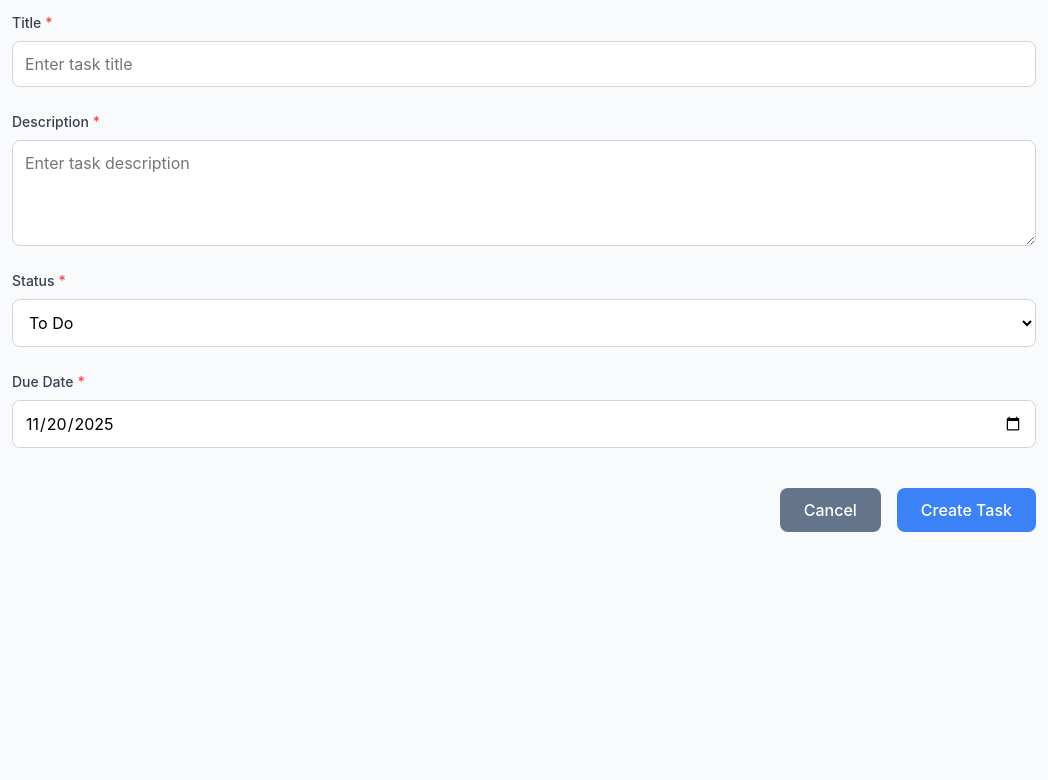
TaskForm Component › Form Validation › should show error when description is too short
Type "Valid Title" into the field labelled "Title*" at (524,64), box [12,41,1036,87]
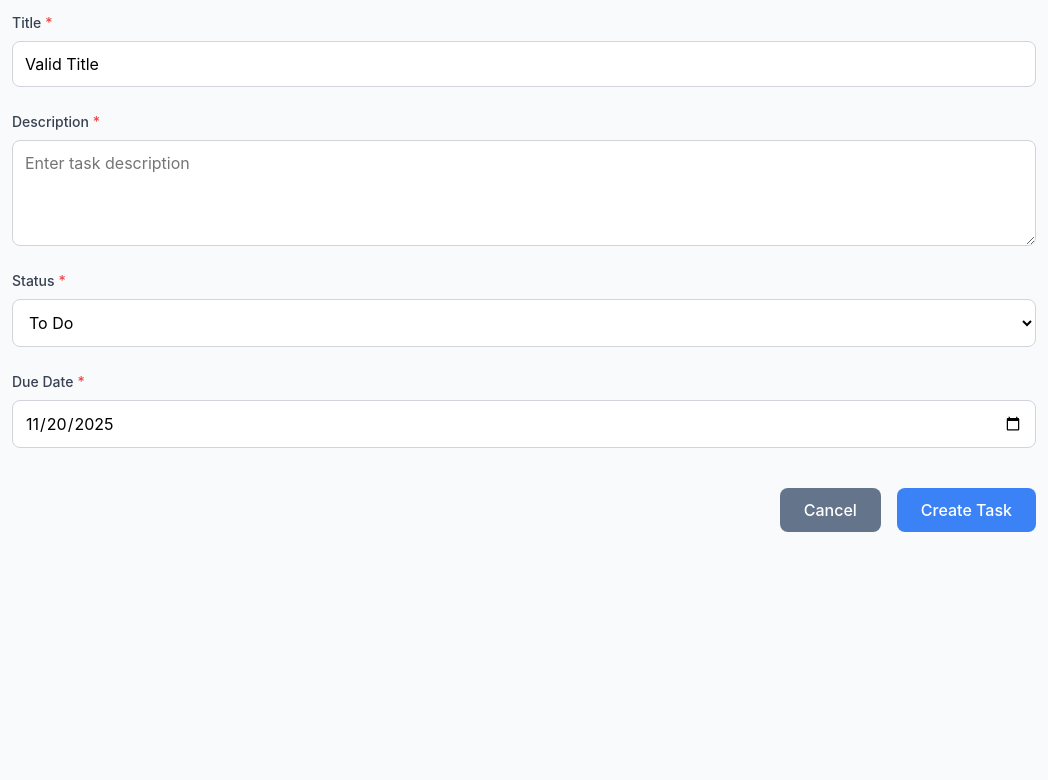
Type "Short" into the text box labelled "Description*" at (524,193), box [12,140,1036,246]
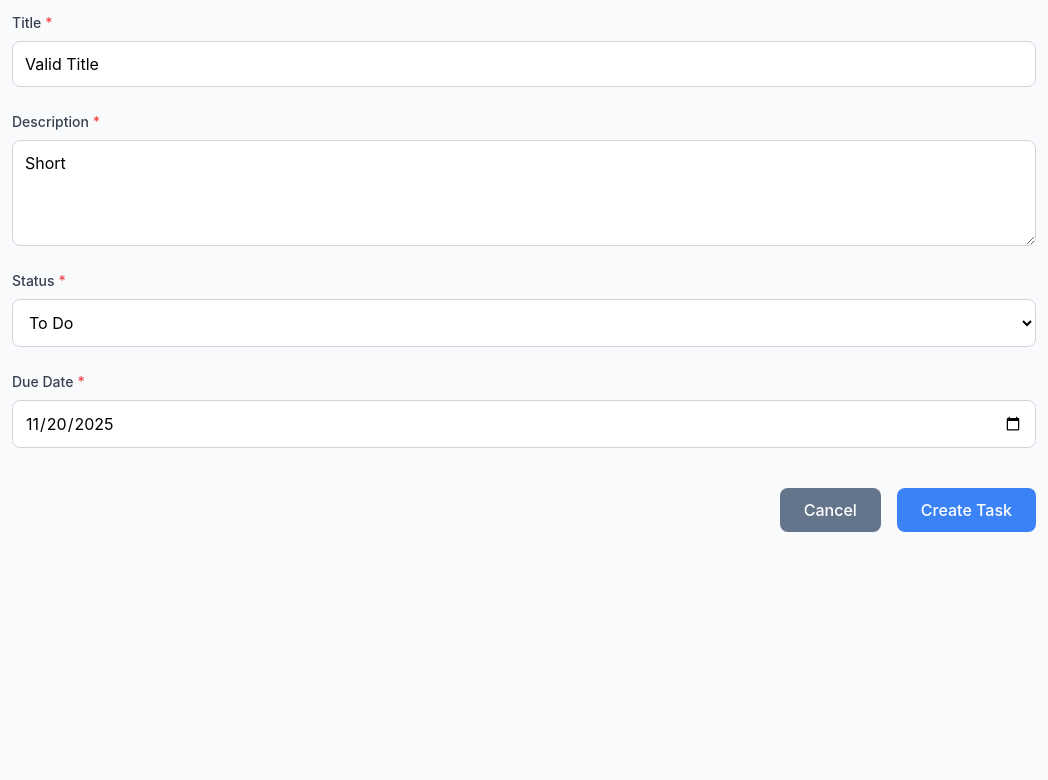
Type "2025-12-31" into the date field labelled "Due Date*" at (524,424), box [12,400,1036,448]
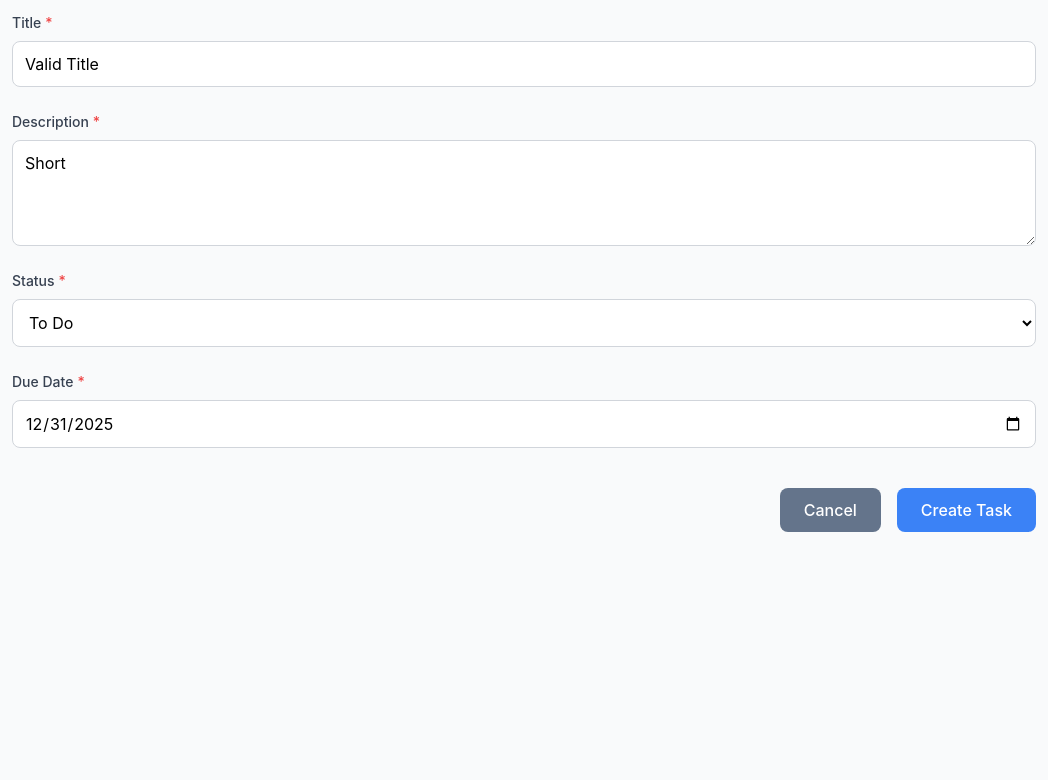
Click the button "Create Task" at (966,510), box [897,488,1036,532]
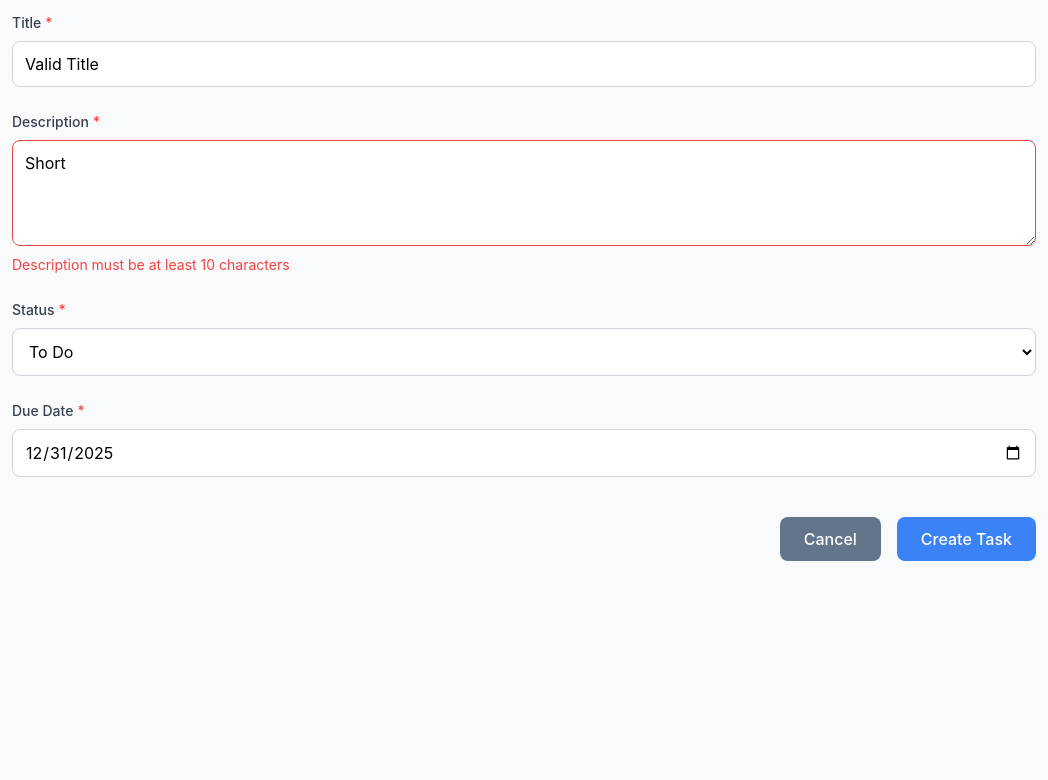
Check: the text "Description must be at least 10 characters" is shown, box [12,256,290,273]
